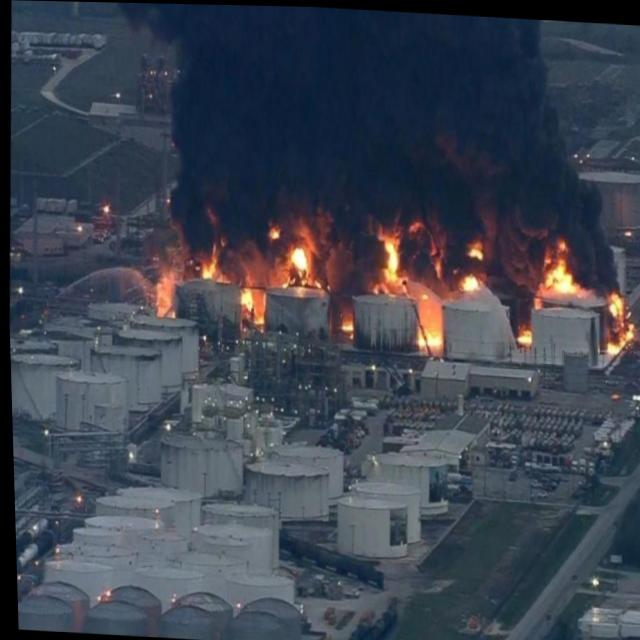fire: (535, 234, 585, 300), (370, 223, 406, 292), (600, 285, 634, 355), (279, 235, 312, 290), (192, 235, 222, 281), (413, 320, 443, 348), (428, 234, 444, 280), (462, 230, 484, 262), (455, 267, 481, 293), (513, 315, 532, 348), (236, 281, 254, 312), (263, 215, 280, 246), (336, 314, 354, 334), (406, 218, 427, 233), (252, 303, 264, 327), (205, 202, 218, 224), (418, 289, 429, 301)
